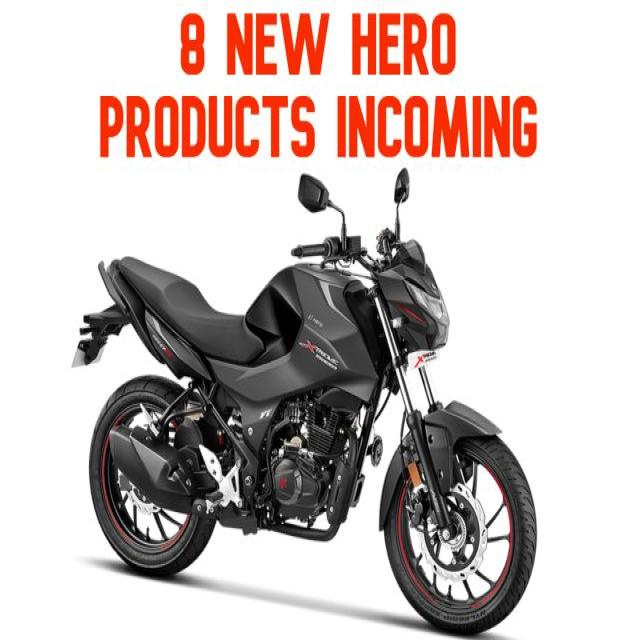MOTORCYCLE: (83, 227, 533, 632)
